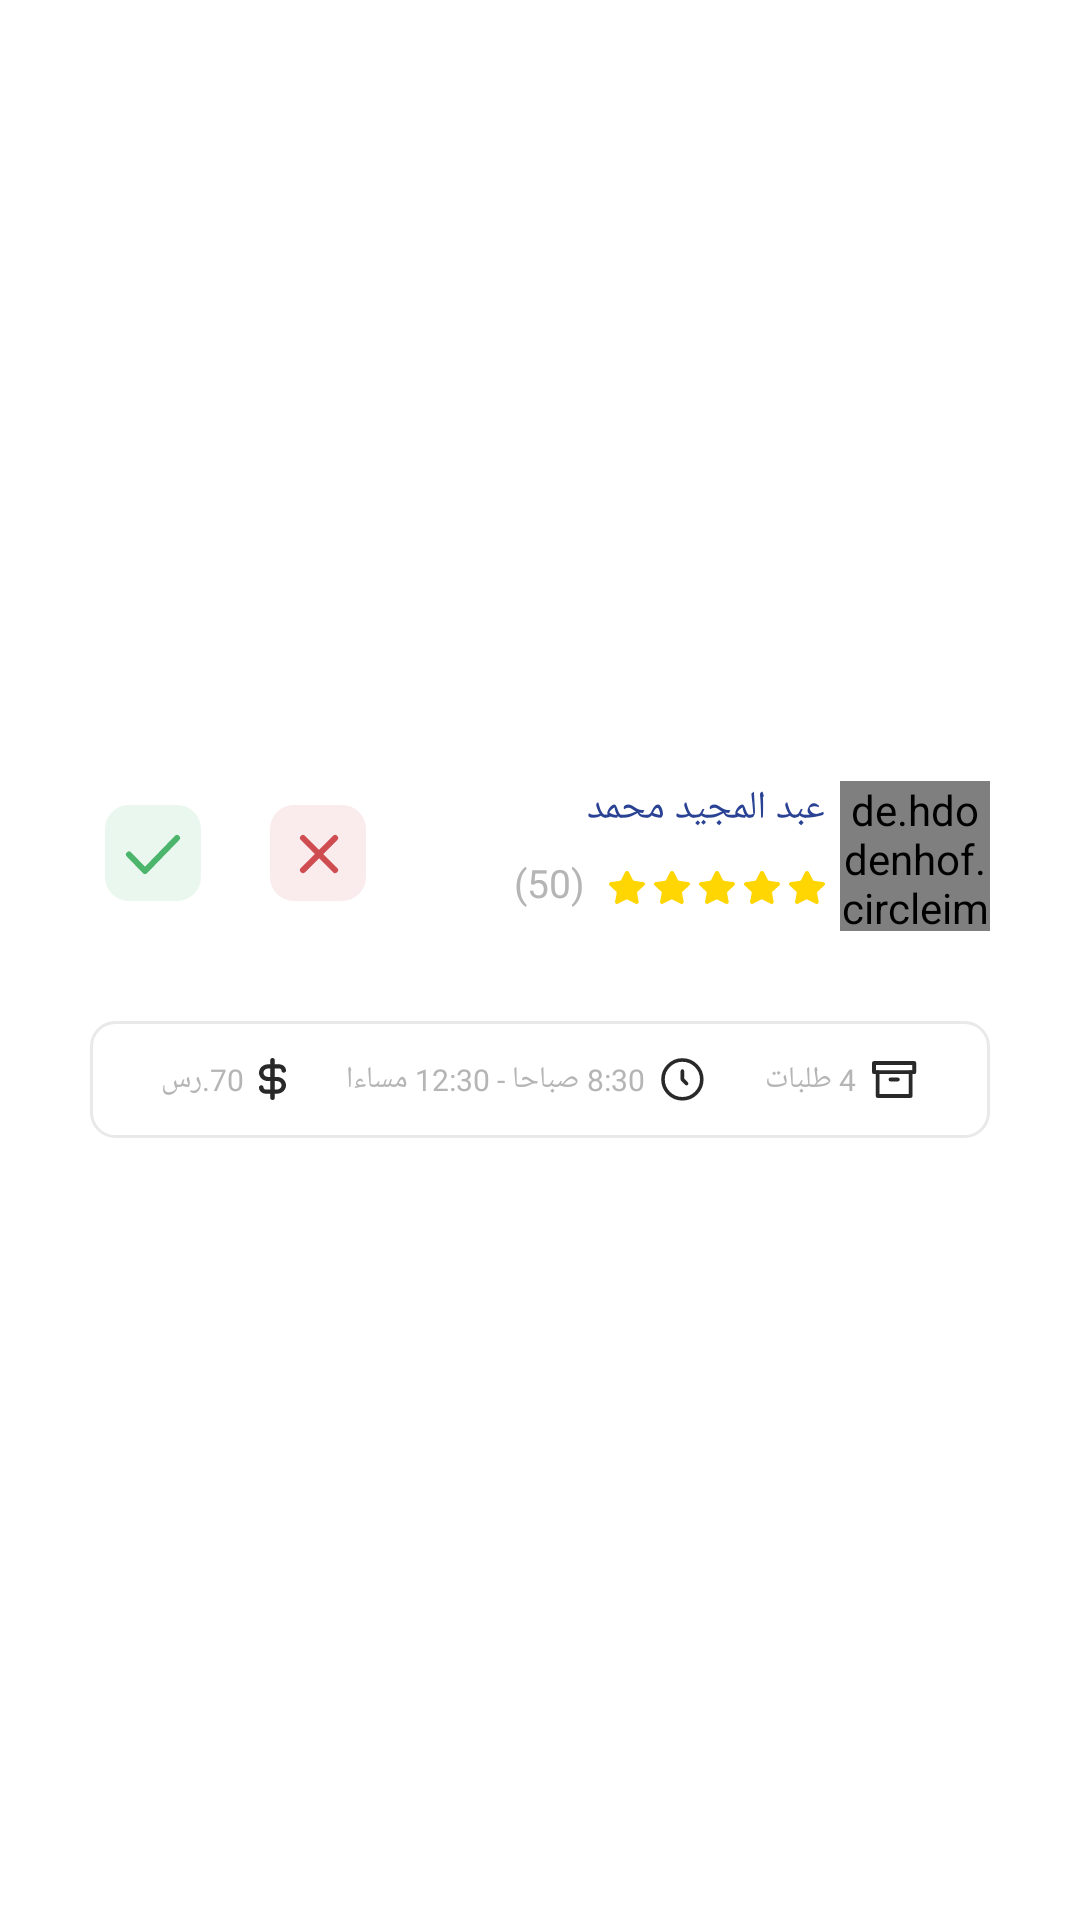

Screen size 1080px x 1920px. Icon name, then its box in pixels as region(x1, y1, x2, y2):
accept: region(105, 805, 201, 901)
clock: region(661, 1058, 704, 1101)
dollar: region(259, 1058, 286, 1100)
reject: region(270, 805, 366, 901)
